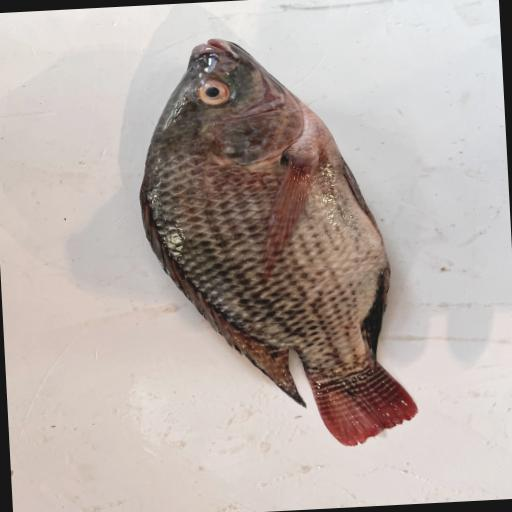Tilapia: (133, 29, 421, 458)
